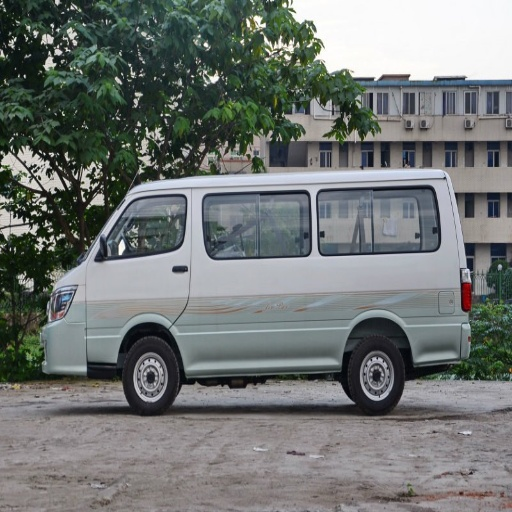back_glass: (125, 195, 184, 251)
back_left_door: (344, 185, 427, 239)
trunk: (271, 265, 461, 367), (93, 301, 134, 363)
